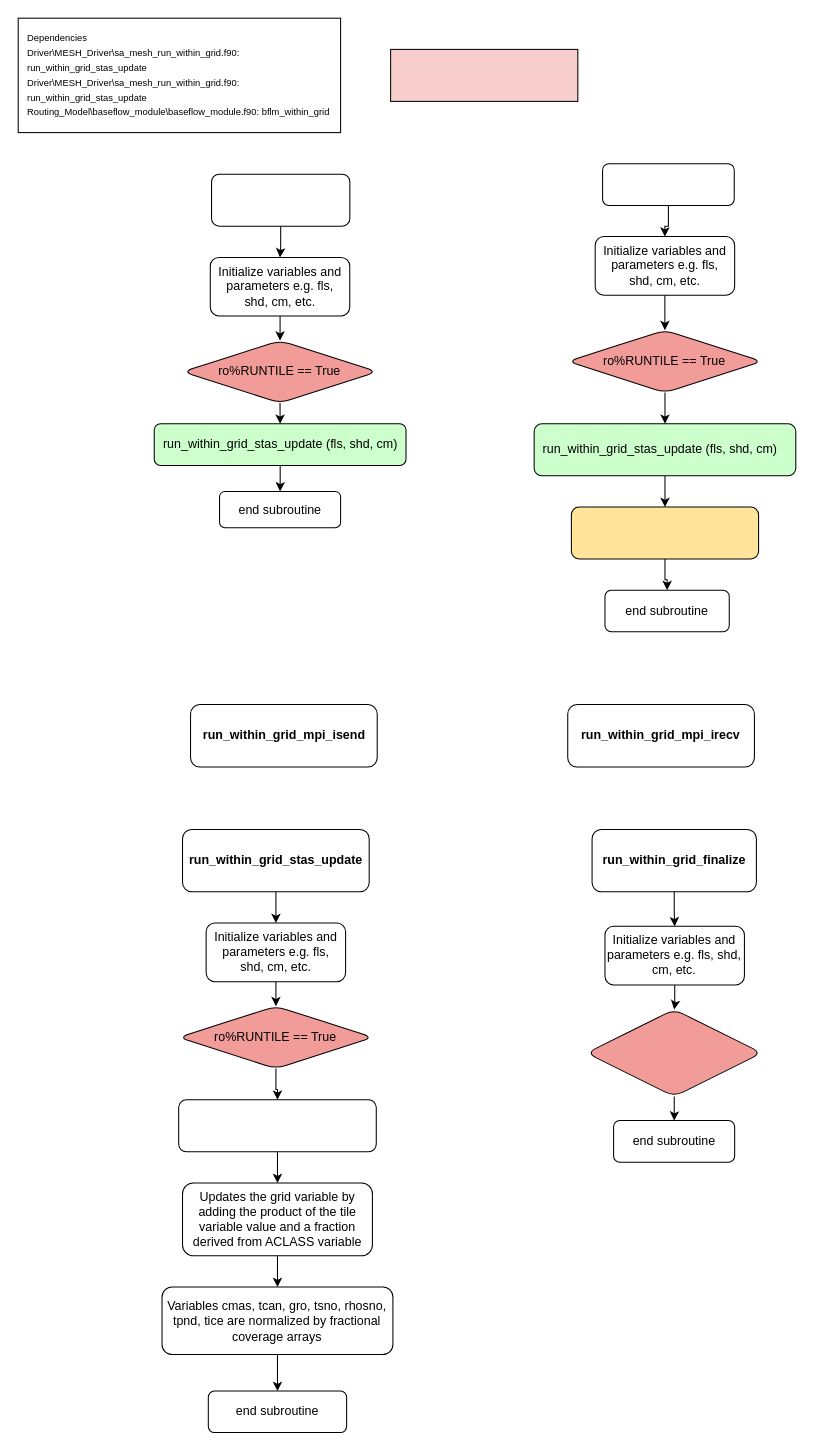
Some shapes in this 814 by 1451 pixel diagram are drawn without their labels. Here are the shapes that lost their labels. From the top down, the box of each, then its label:
(390, 48, 578, 101): sa_mesh_run_within_grid.f90
(210, 173, 350, 226): run_within_grid_init
(602, 163, 734, 205): run_within_grid
(570, 506, 759, 559): Call process: bflm_within_grid (fls, shd, cm)
(586, 1008, 762, 1096): head node and ro%RUNGRID == True
(178, 1099, 376, 1152): Initializes grid variables to 0.0
